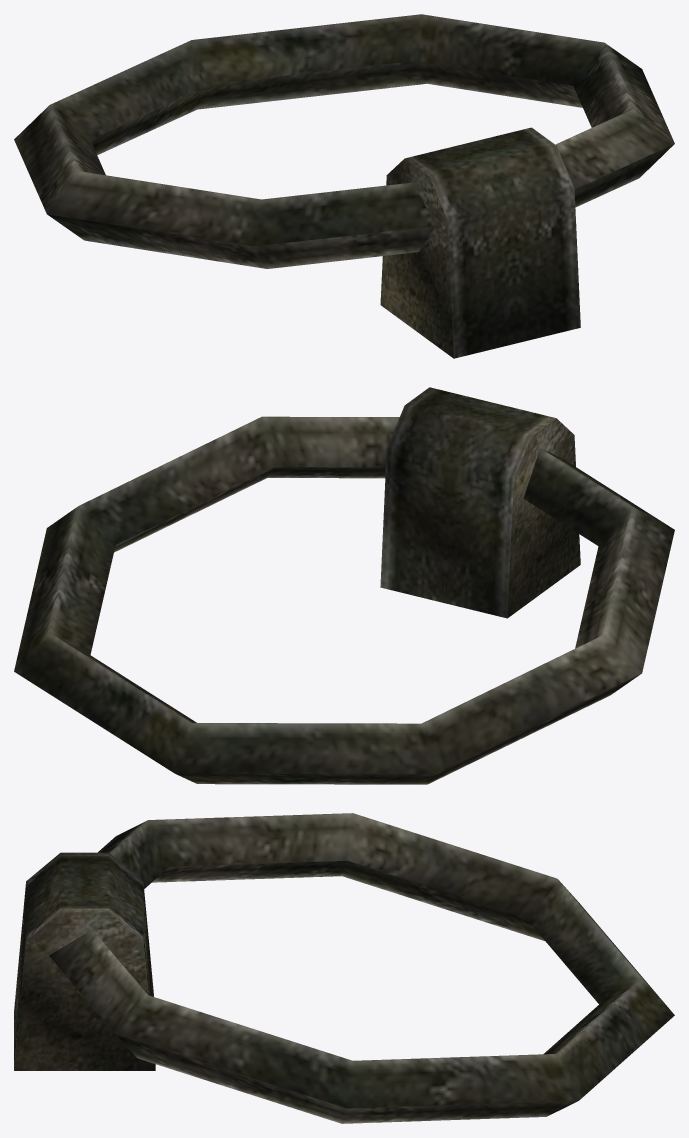
Rendered from KM_BATTERING_RAM_02.glb.
3 renders of one model, top to bottom at view 1: azimuth 30°, elevation 25°; view 2: azimuth 150°, elevation 25°; view 3: azimuth 270°, elevation 25°, orthographic. The views are drawn at different scales.
Visible parts, largest first — view 1: Mesh; view 2: Mesh; view 3: Mesh.
Part boxes in pixels (bbox=[...]): Mesh: bbox=[14, 14, 674, 358]; Mesh: bbox=[14, 387, 674, 784]; Mesh: bbox=[14, 813, 674, 1123].
Bounding box in the file's own units: 0.3822 × 0.1012 × 0.3809.
1 material, 1 textured.
